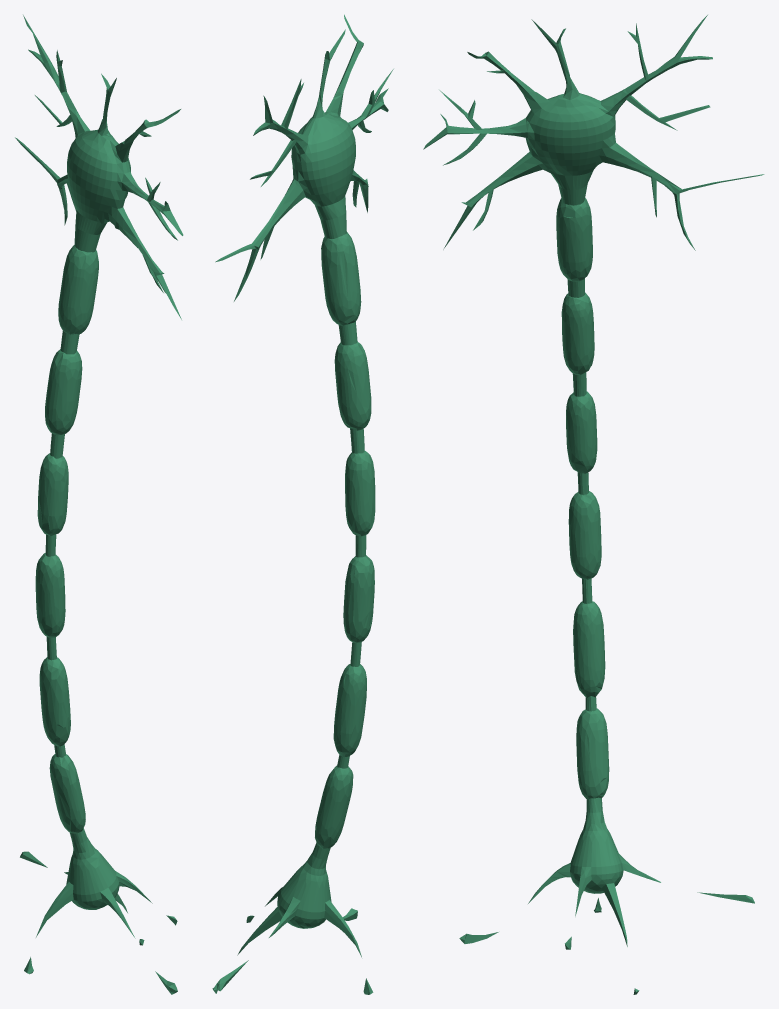
The model's file is 神经细胞.obj.
3 renders of one model, left to right at view 1: azimuth 30°, elevation 25°; view 2: azimuth 150°, elevation 25°; view 3: azimuth 270°, elevation 25°, orthographic. The views are drawn at different scales.
Parts seen in each view (by area): view 1: VRayProxy006; view 2: VRayProxy006; view 3: VRayProxy006.
Boxes of the visible parts, box(x1,y1,x2,y2) form: VRayProxy006: box(15, 15, 183, 994); VRayProxy006: box(212, 14, 393, 994); VRayProxy006: box(423, 15, 764, 994).
Size of the model in its own units: 0.5176 by 3.33 by 1.1.
